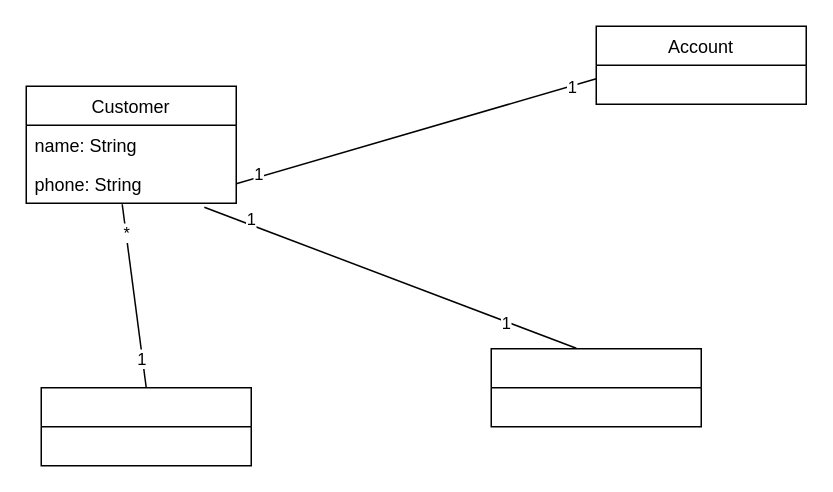
Image size: 833x492. Some labels were removed from this diagram. Here are the shapes that lost their labels. From the top down, the centre of each, then its label:
[595,387]: Contract
[145,426]: Records
